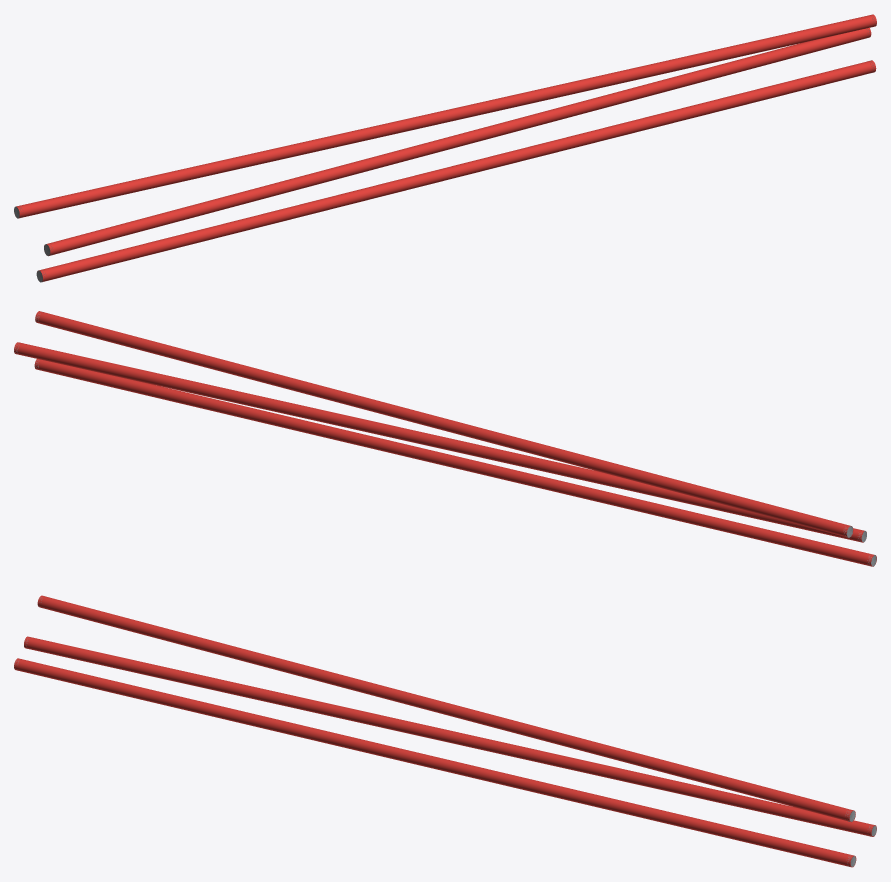
The model's file is HID-INC-007_anim.glb.
The picture shows the model from 3 angles, top to bottom: view 1: azimuth 30°, elevation 25°; view 2: azimuth 150°, elevation 25°; view 3: azimuth 330°, elevation 25°; orthographic projection.
Visible parts, largest first — view 1: HID-INC-007_anim2, HID-INC-007_anim0, HID-INC-007_anim1; view 2: HID-INC-007_anim0, HID-INC-007_anim2, HID-INC-007_anim1; view 3: HID-INC-007_anim1, HID-INC-007_anim0, HID-INC-007_anim2.
Part boxes in pixels (x1,y1,x2,y2): HID-INC-007_anim2: (14, 14, 876, 218); HID-INC-007_anim0: (36, 60, 876, 282); HID-INC-007_anim1: (44, 28, 871, 256); HID-INC-007_anim0: (34, 359, 876, 566); HID-INC-007_anim2: (35, 311, 853, 537); HID-INC-007_anim1: (14, 342, 866, 542); HID-INC-007_anim1: (24, 636, 876, 836); HID-INC-007_anim0: (14, 658, 856, 867); HID-INC-007_anim2: (37, 595, 855, 822).
Size of the model in its own units: 6.06 by 0.3941 by 0.3683.
Materials: 2 (1 with a texture image).
